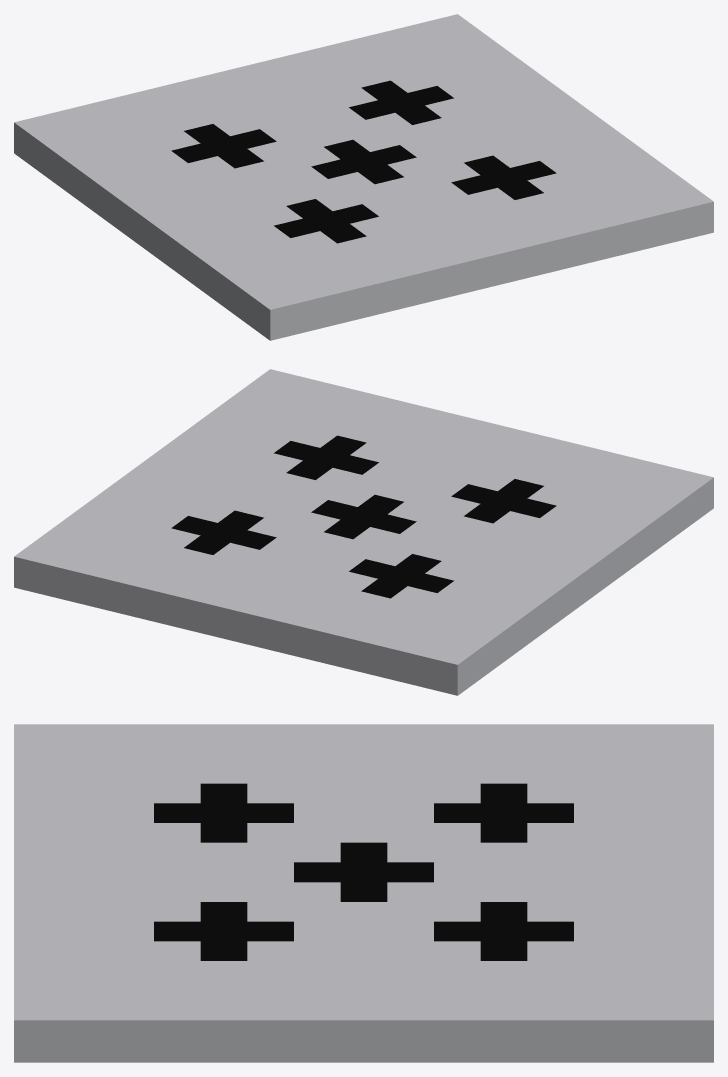
Rendered from dungeon_d_b_ground_a_b.obj.
3 views of the same model, one above another, from view 1: azimuth 30°, elevation 25°; view 2: azimuth 150°, elevation 25°; view 3: azimuth 270°, elevation 25° (orthographic). The views are drawn at different scales.
Bounding box in the file's own units: 1.5 × 0.1 × 1.5.
1 material, 1 textured.
